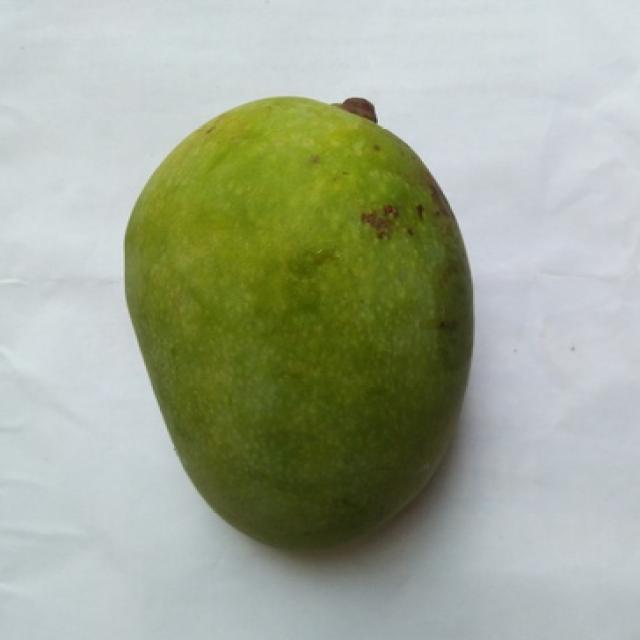Mango: (127, 98, 471, 549)
